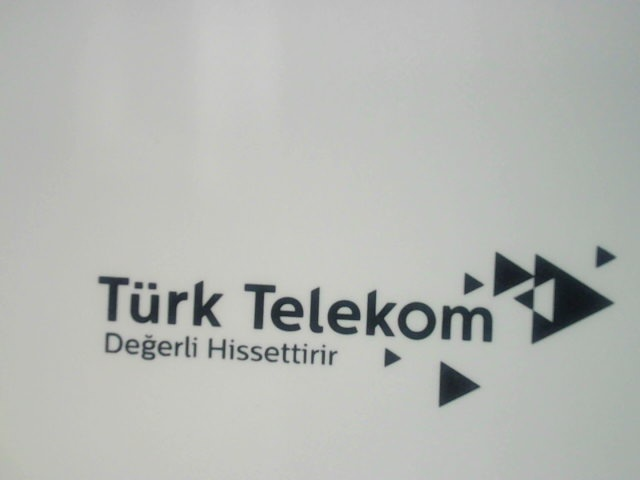AQ_TURKTelekom: (89, 229, 621, 409)
